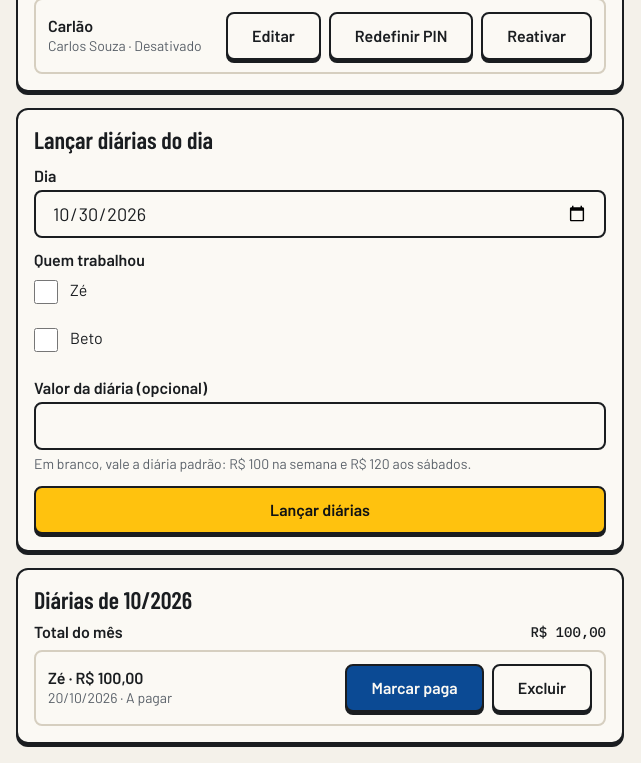
Test case: Equipe e diárias › marca a diária como paga mantendo o valor e mostra erro da API (409)
(page scrolled)
Click the button with aria-label "Marcar diária de Zé" at (415, 688), box x1=346 y1=664 x2=484 y2=712
(page scrolled)
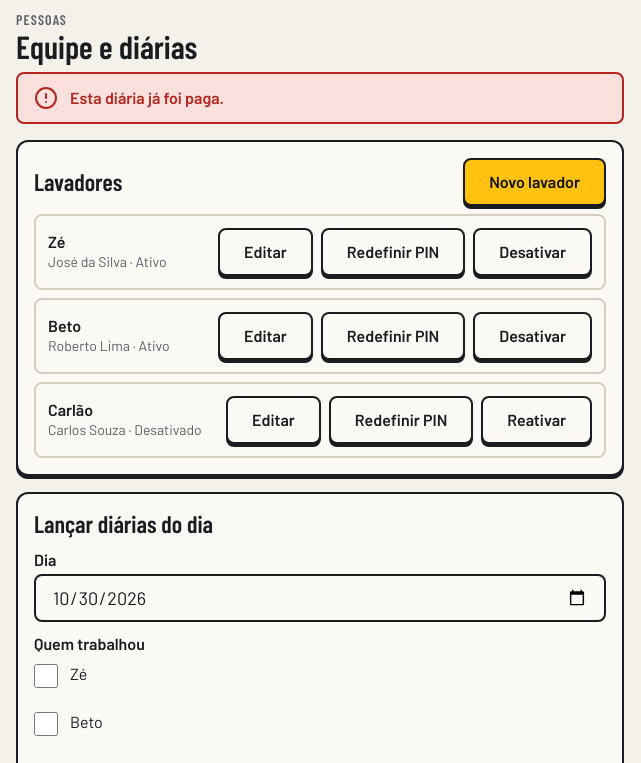
Expected: the message reads "Esta diária já foi paga.", x1=70 y1=88 x2=224 y2=107
